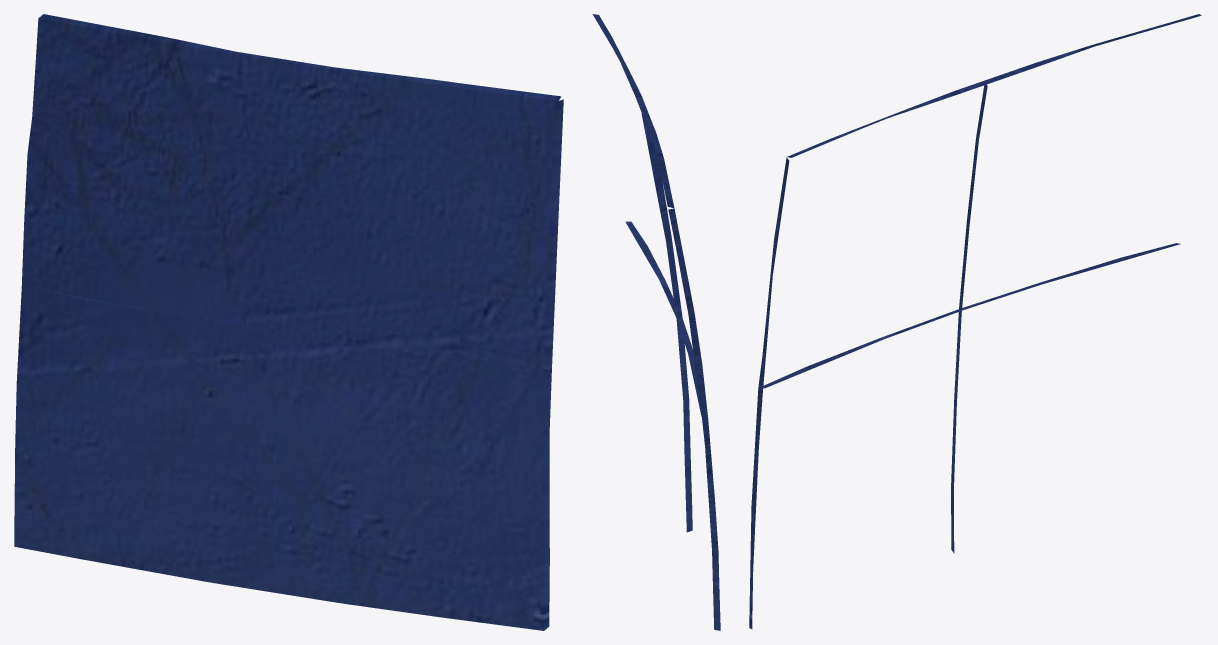
3 renders of one model, left to right at view 1: azimuth 30°, elevation 25°; view 2: azimuth 150°, elevation 25°; view 3: azimuth 270°, elevation 25°, orthographic. The views are drawn at different scales.
Size of the model in its own units: 900820 by 1252815 by 1050365.
1 material, 1 textured.
